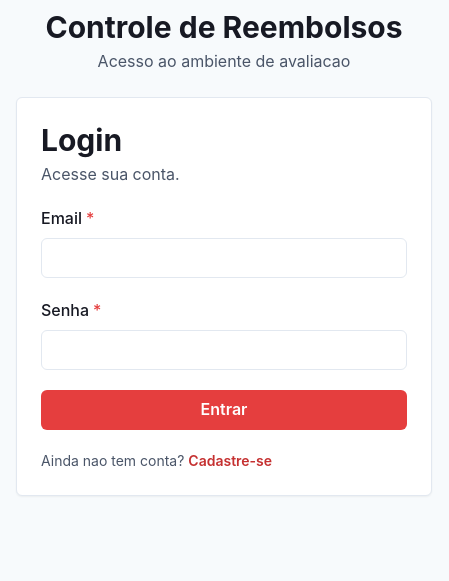
LoginPage › shows a clear message when credentials are invalid
Type "admin@teste.com" into the field labelled "Email*" at (224, 258), box [41,238,407,278]
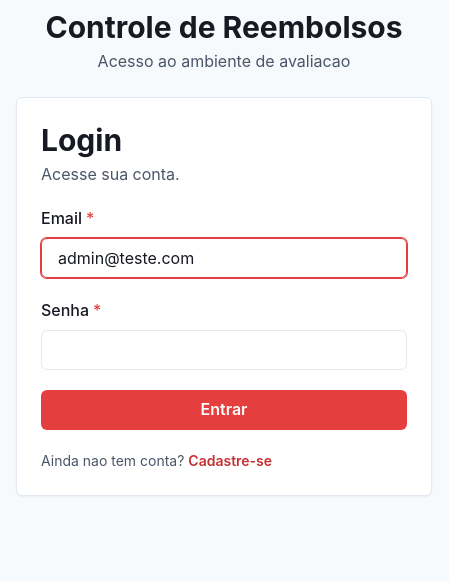
Type "senha-incorreta" into the password field labelled "Senha*" at (224, 350), box [41,330,407,370]
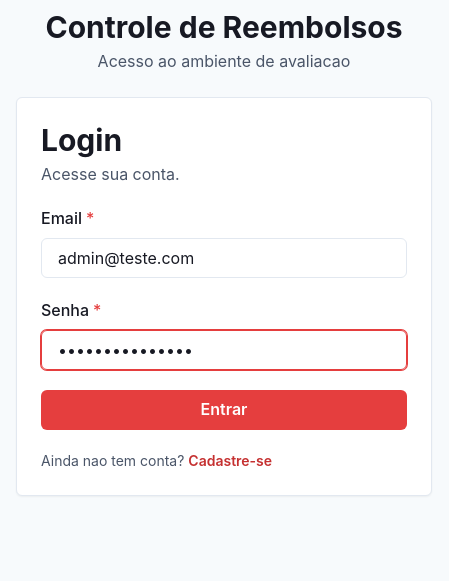
Click the button "Entrar" at (224, 410), box [41,390,407,430]
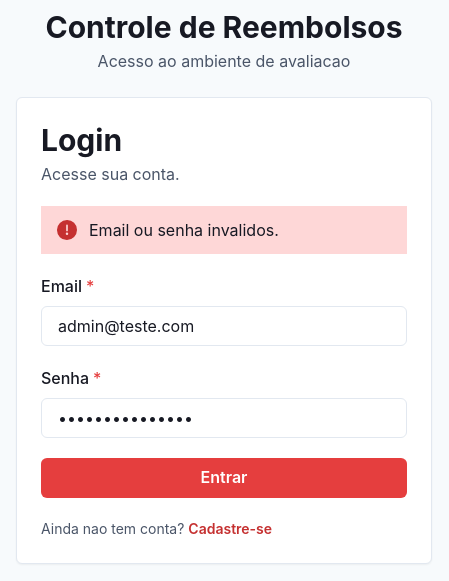
expect the text "Email ou senha invalidos." is shown: met, box [41,206,407,254]
